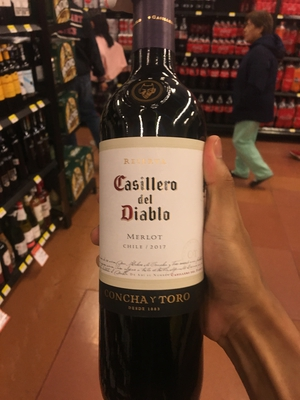casillero del diablo merlot: (88, 20, 223, 400)
